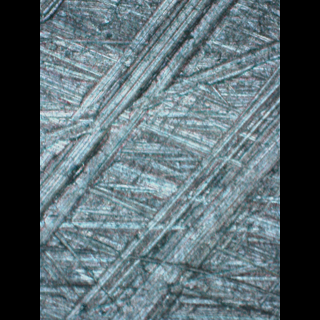d: (64, 62, 280, 319), (40, 0, 235, 248)
